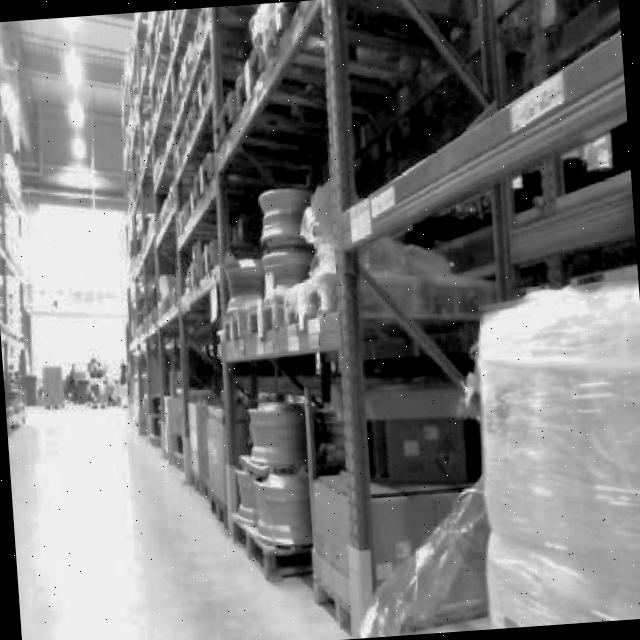ground: (6, 368, 494, 640)
pallet: (100, 0, 640, 640), (0, 20, 62, 640)
